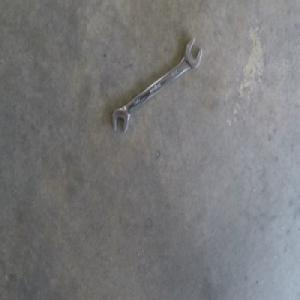Wrench: (113, 38, 203, 133)
